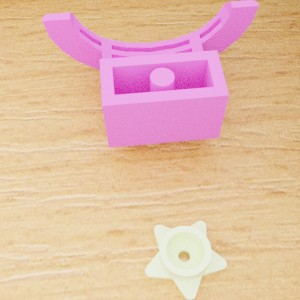lego: (42, 0, 258, 147), (144, 220, 226, 300)
